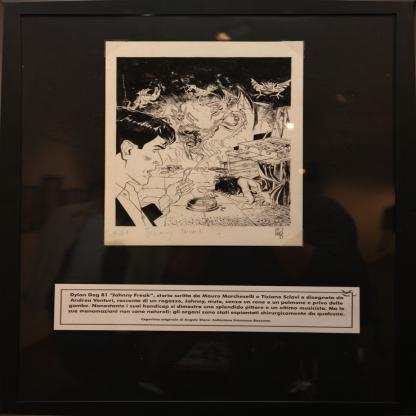Picture-frame: (105, 40, 307, 245)
